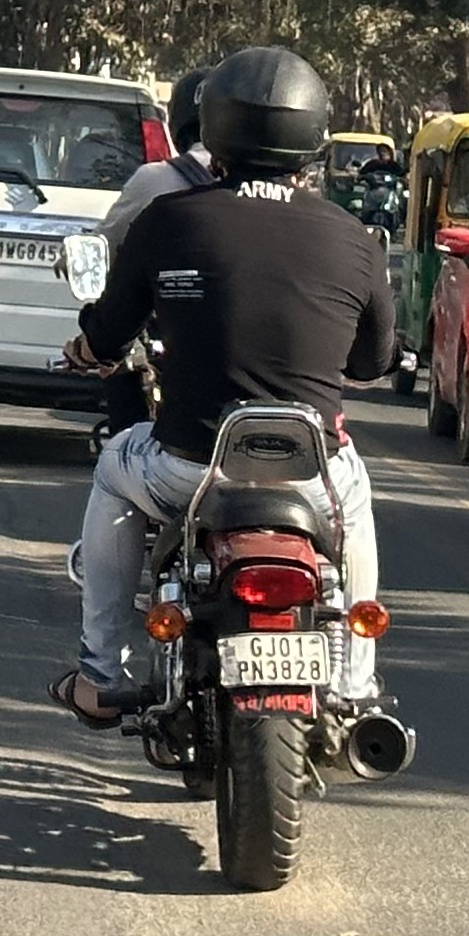BikeWithRider: (35, 34, 426, 902)
Helmet: (188, 37, 339, 190), (159, 58, 230, 164)
